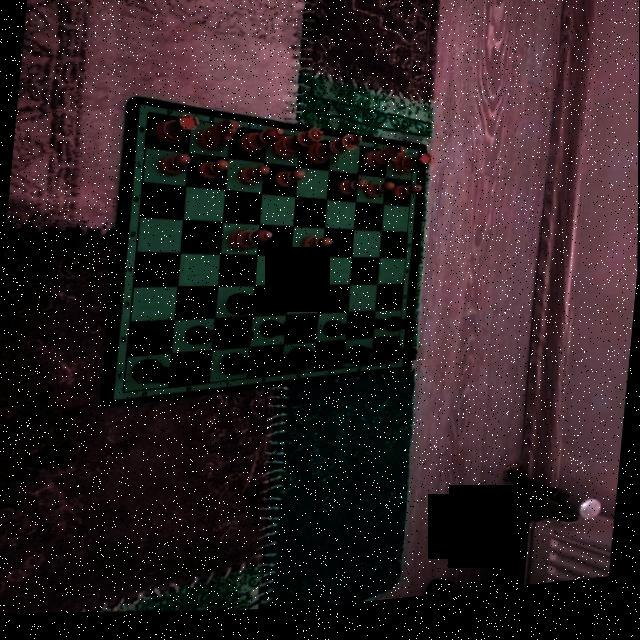chess-table-corners: (116, 387, 130, 401), (406, 156, 420, 168), (142, 110, 154, 120), (392, 365, 403, 375)
